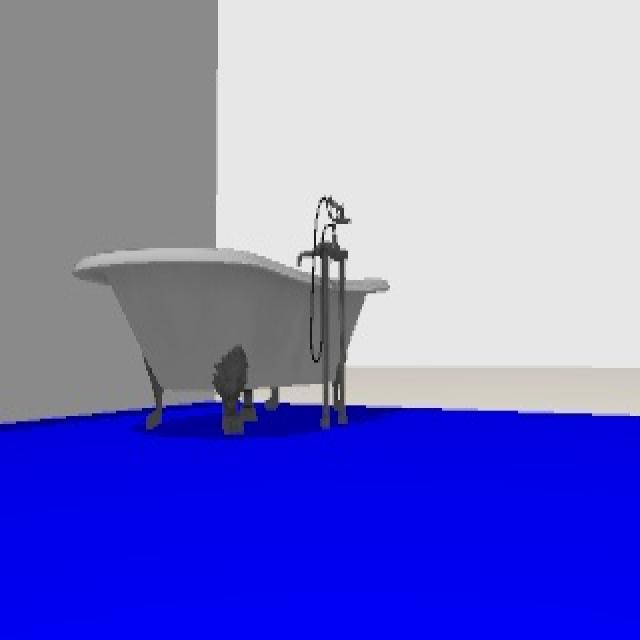bathtub: (74, 195, 394, 440)
